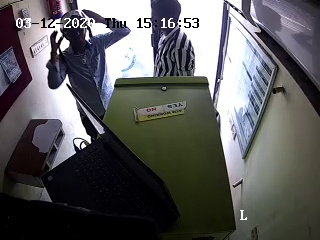helmet: (51, 8, 98, 48)
